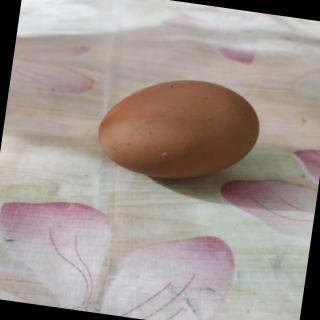Telur: (91, 64, 270, 195)
